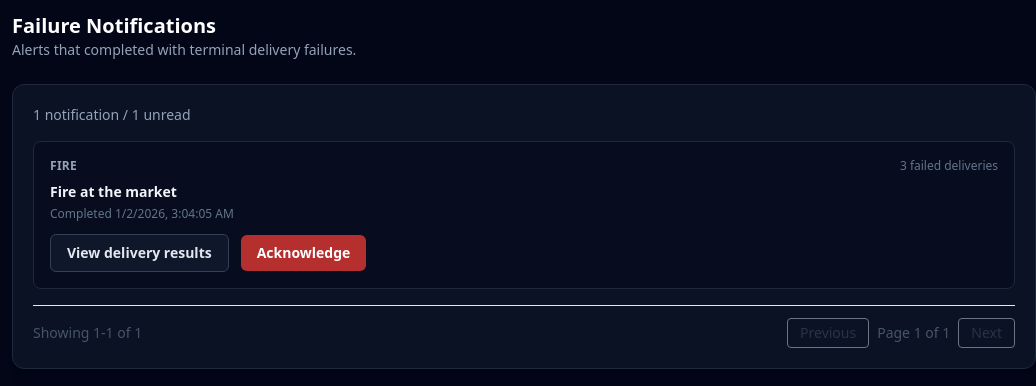
it: Notifications page › acknowledges a notification and updates the history
Click the button "Acknowledge".
click(304, 253)  # box top-left (241, 235), bottom-right (366, 271)
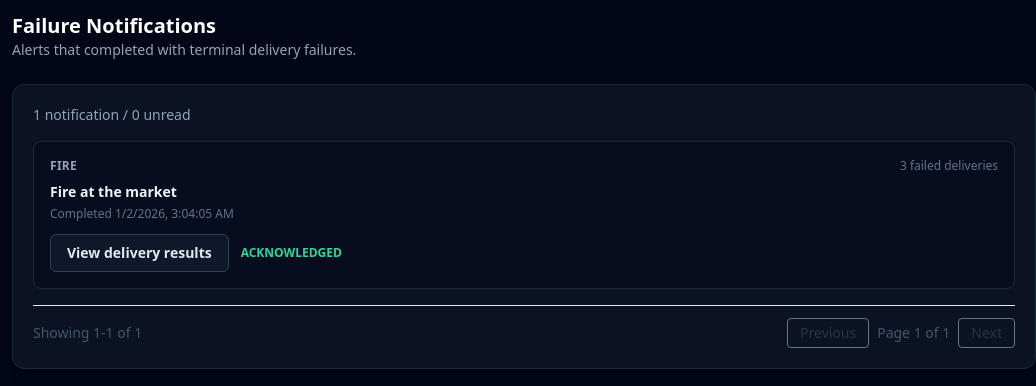
expect the text "Fire at the market" is shown: met, box top-left (50, 182), bottom-right (177, 201)
expect the text "Acknowledged" is shown: met, box top-left (241, 245), bottom-right (342, 261)
